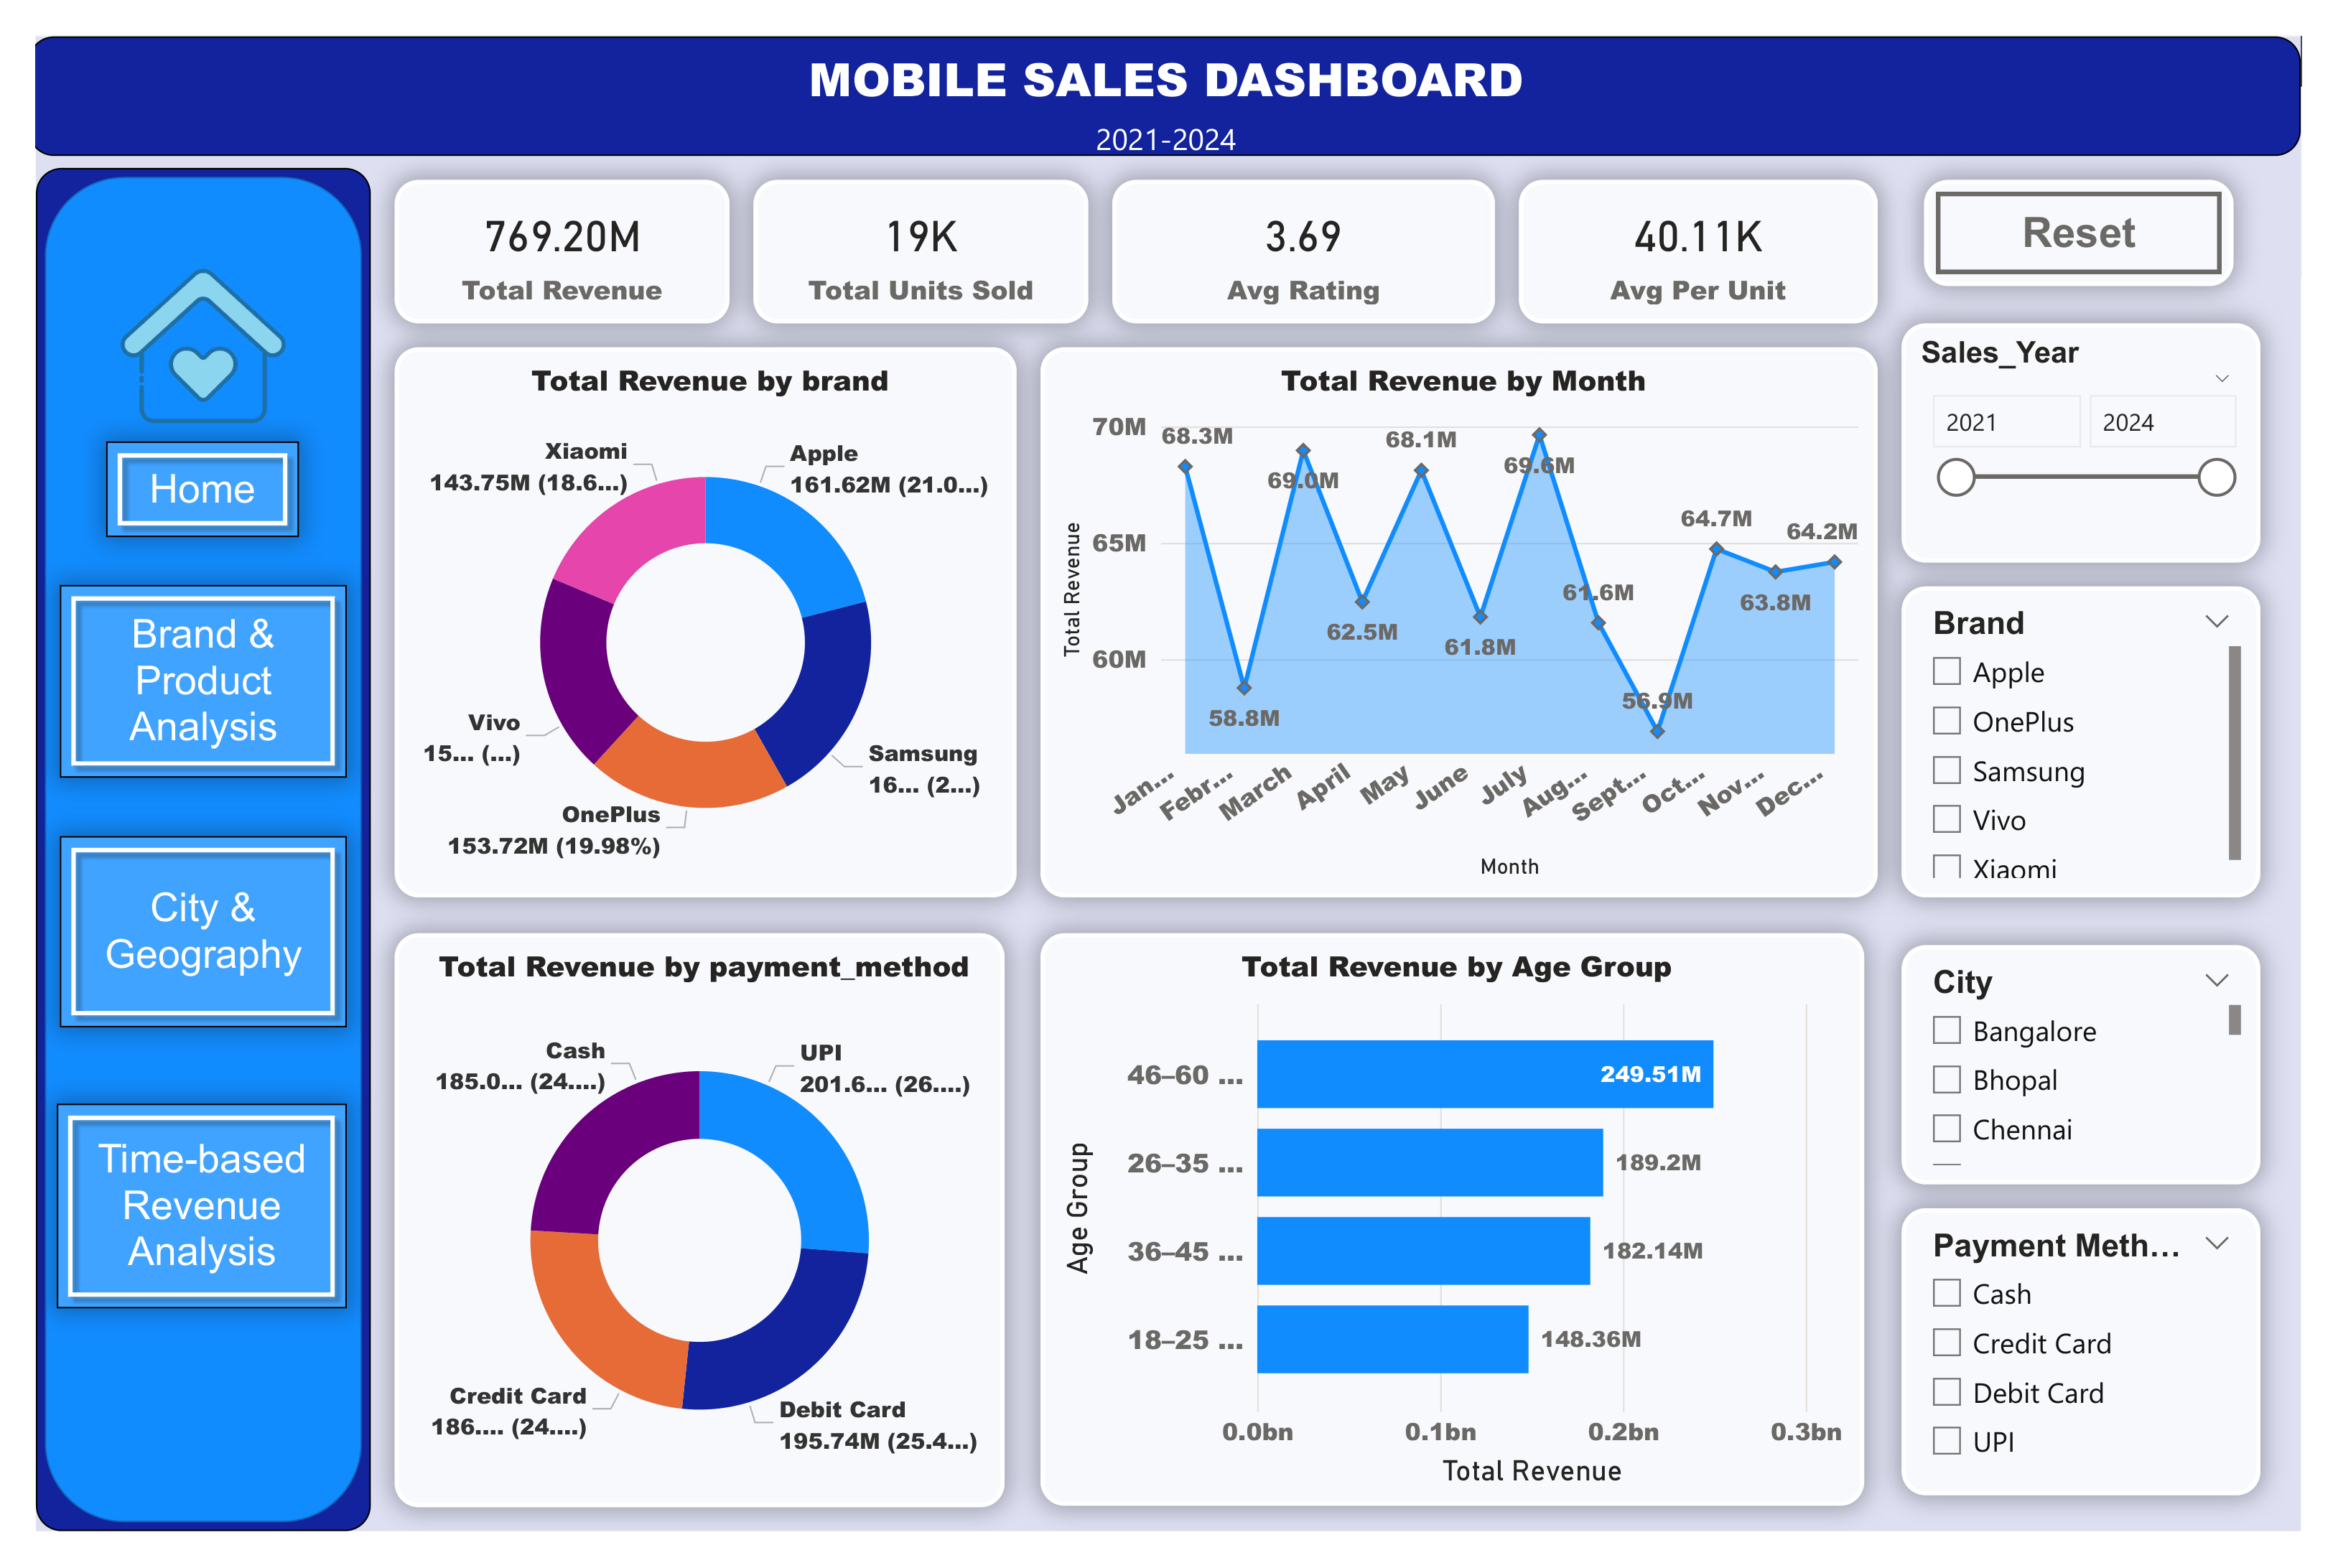

What the dashboard file says about the page in this screenshot:
{"tool":"powerbi","page":{"name":"Homepage","canvas":[1515,1000],"ordinal":0},"visuals":[{"type":"card","fields":{"Values":["mobile_sales.Total Revenue"]},"box":[240,96,224,96],"z":0},{"type":"textbox","title":"MOBILE SALES DASHBOARD","box":[-5,0,1520,80],"z":1000},{"type":"card","fields":{"Values":["mobile_sales.Total Units Sold"]},"box":[480,96,224,96],"z":2000},{"type":"card","fields":{"Values":["mobile_sales.Avg Rating"]},"box":[720,96,256,96],"z":3000},{"type":"slicer","title":"Sales_Year","fields":{"Values":["mobile_sales.sale_year"]},"box":[1248,192,240,160],"z":4000},{"type":"slicer","title":"Brand","fields":{"Values":["mobile_sales.brand"]},"box":[1248,368,240,208],"z":5000},{"type":"slicer","title":"Brand","fields":{"Values":["mobile_sales.City"]},"box":[1248,608,240,160],"z":6000},{"type":"donutChart","fields":{"Y":["mobile_sales.Total Revenue"],"Category":["mobile_sales.brand"]},"box":[240,208,416,368],"z":7000},{"type":"areaChart","fields":{"Category":["DateTable.Month"],"Y":["mobile_sales.Total Revenue"]},"box":[672,208,560,368],"z":8000},{"type":"slicer","title":"Brand","fields":{"Values":["mobile_sales.payment_method"]},"box":[1248,784,240,192],"z":9000},{"type":"clusteredBarChart","fields":{"Category":["mobile_sales.Age Group"],"Y":["mobile_sales.Total Revenue"]},"box":[671.7,600,551.7,383.3],"z":10000},{"type":"donutChart","fields":{"Y":["mobile_sales.Total Revenue"],"Category":["mobile_sales.payment_method"]},"box":[240,600,408,384],"z":11000},{"type":"shape","box":[0,88.2,223.5,911.8],"z":12000},{"type":"actionButton","title":"Home","box":[46.9,271.4,128.6,63.3],"z":13000},{"type":"actionButton","box":[16.3,367.3,191.8,128.6],"z":14000},{"type":"actionButton","box":[16.3,534.7,191.8,128.6],"z":15000},{"type":"card","fields":{"Values":["mobile_sales.Avg Price Per Unit"]},"box":[992,96,240,96],"z":16000},{"type":"actionButton","box":[14.3,714.3,193.9,136.7],"z":17000},{"type":"image","box":[36.7,151,149,112.2],"z":18000},{"type":"actionButton","box":[1263,95.7,206.5,71.7],"z":19000}]}

Visuals, with their boxes on the page's 1515x1000 design canvas (x1, y1, x2, y2). These are canvas units, not pixel positions in the 2338x1568 screenshot, which may show the page scaled, cropped or inside an application window:
card - mobile_sales.Total Revenue: 240, 96, 464, 192
"MOBILE SALES DASHBOARD" textbox: -5, 0, 1515, 80
card - mobile_sales.Total Units Sold: 480, 96, 704, 192
card - mobile_sales.Avg Rating: 720, 96, 976, 192
"Sales_Year" slicer: 1248, 192, 1488, 352
"Brand" slicer: 1248, 368, 1488, 576
"Brand" slicer: 1248, 608, 1488, 768
donutChart - mobile_sales.Total Revenue x mobile_sales.brand: 240, 208, 656, 576
areaChart - DateTable.Month x mobile_sales.Total Revenue: 672, 208, 1232, 576
"Brand" slicer: 1248, 784, 1488, 976
clusteredBarChart - mobile_sales.Age Group x mobile_sales.Total Revenue: 672, 600, 1223, 983
donutChart - mobile_sales.Total Revenue x mobile_sales.payment_method: 240, 600, 648, 984
shape: 0, 88, 224, 1000
"Home" actionButton: 47, 271, 176, 335
actionButton: 16, 367, 208, 496
actionButton: 16, 535, 208, 663
card - mobile_sales.Avg Price Per Unit: 992, 96, 1232, 192
actionButton: 14, 714, 208, 851
image: 37, 151, 186, 263
actionButton: 1263, 96, 1470, 167
